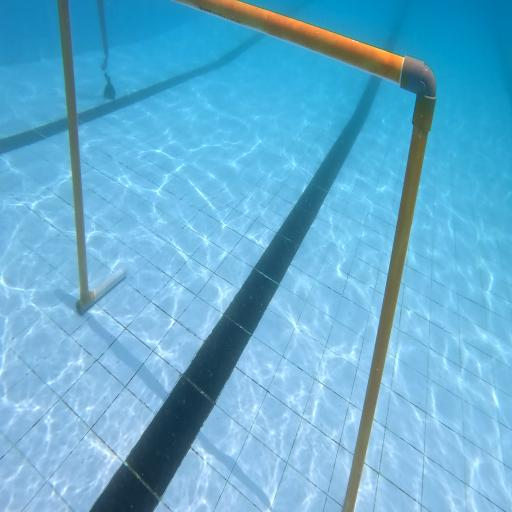gate: (57, 0, 435, 512)
